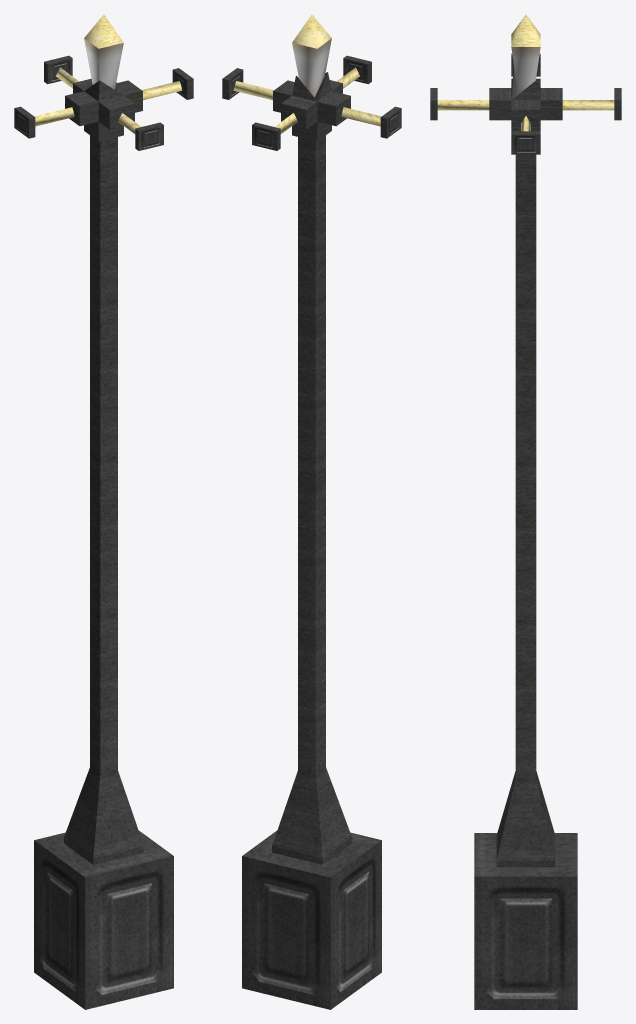
Rendered from thm_nboo_thed_imprv_streetlamp_s01_l0.fbx.
3 views of the same model, side by side, from view 1: azimuth 30°, elevation 25°; view 2: azimuth 150°, elevation 25°; view 3: azimuth 270°, elevation 25° (orthographic).
Visible parts, largest first — view 1: mesh_node; view 2: mesh_node; view 3: mesh_node.
Part boxes in pixels (x1,y1,x2,y2): mesh_node: (14,14,193,1009); mesh_node: (222,14,401,1009); mesh_node: (430,14,621,1009).
Bounding box in the file's own units: 1.3 × 7.3 × 1.3.
